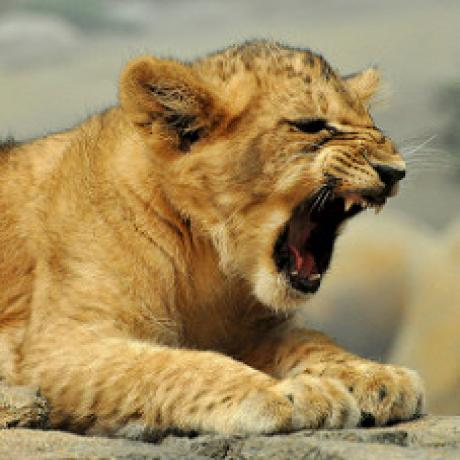Lion: (0, 36, 438, 434)
